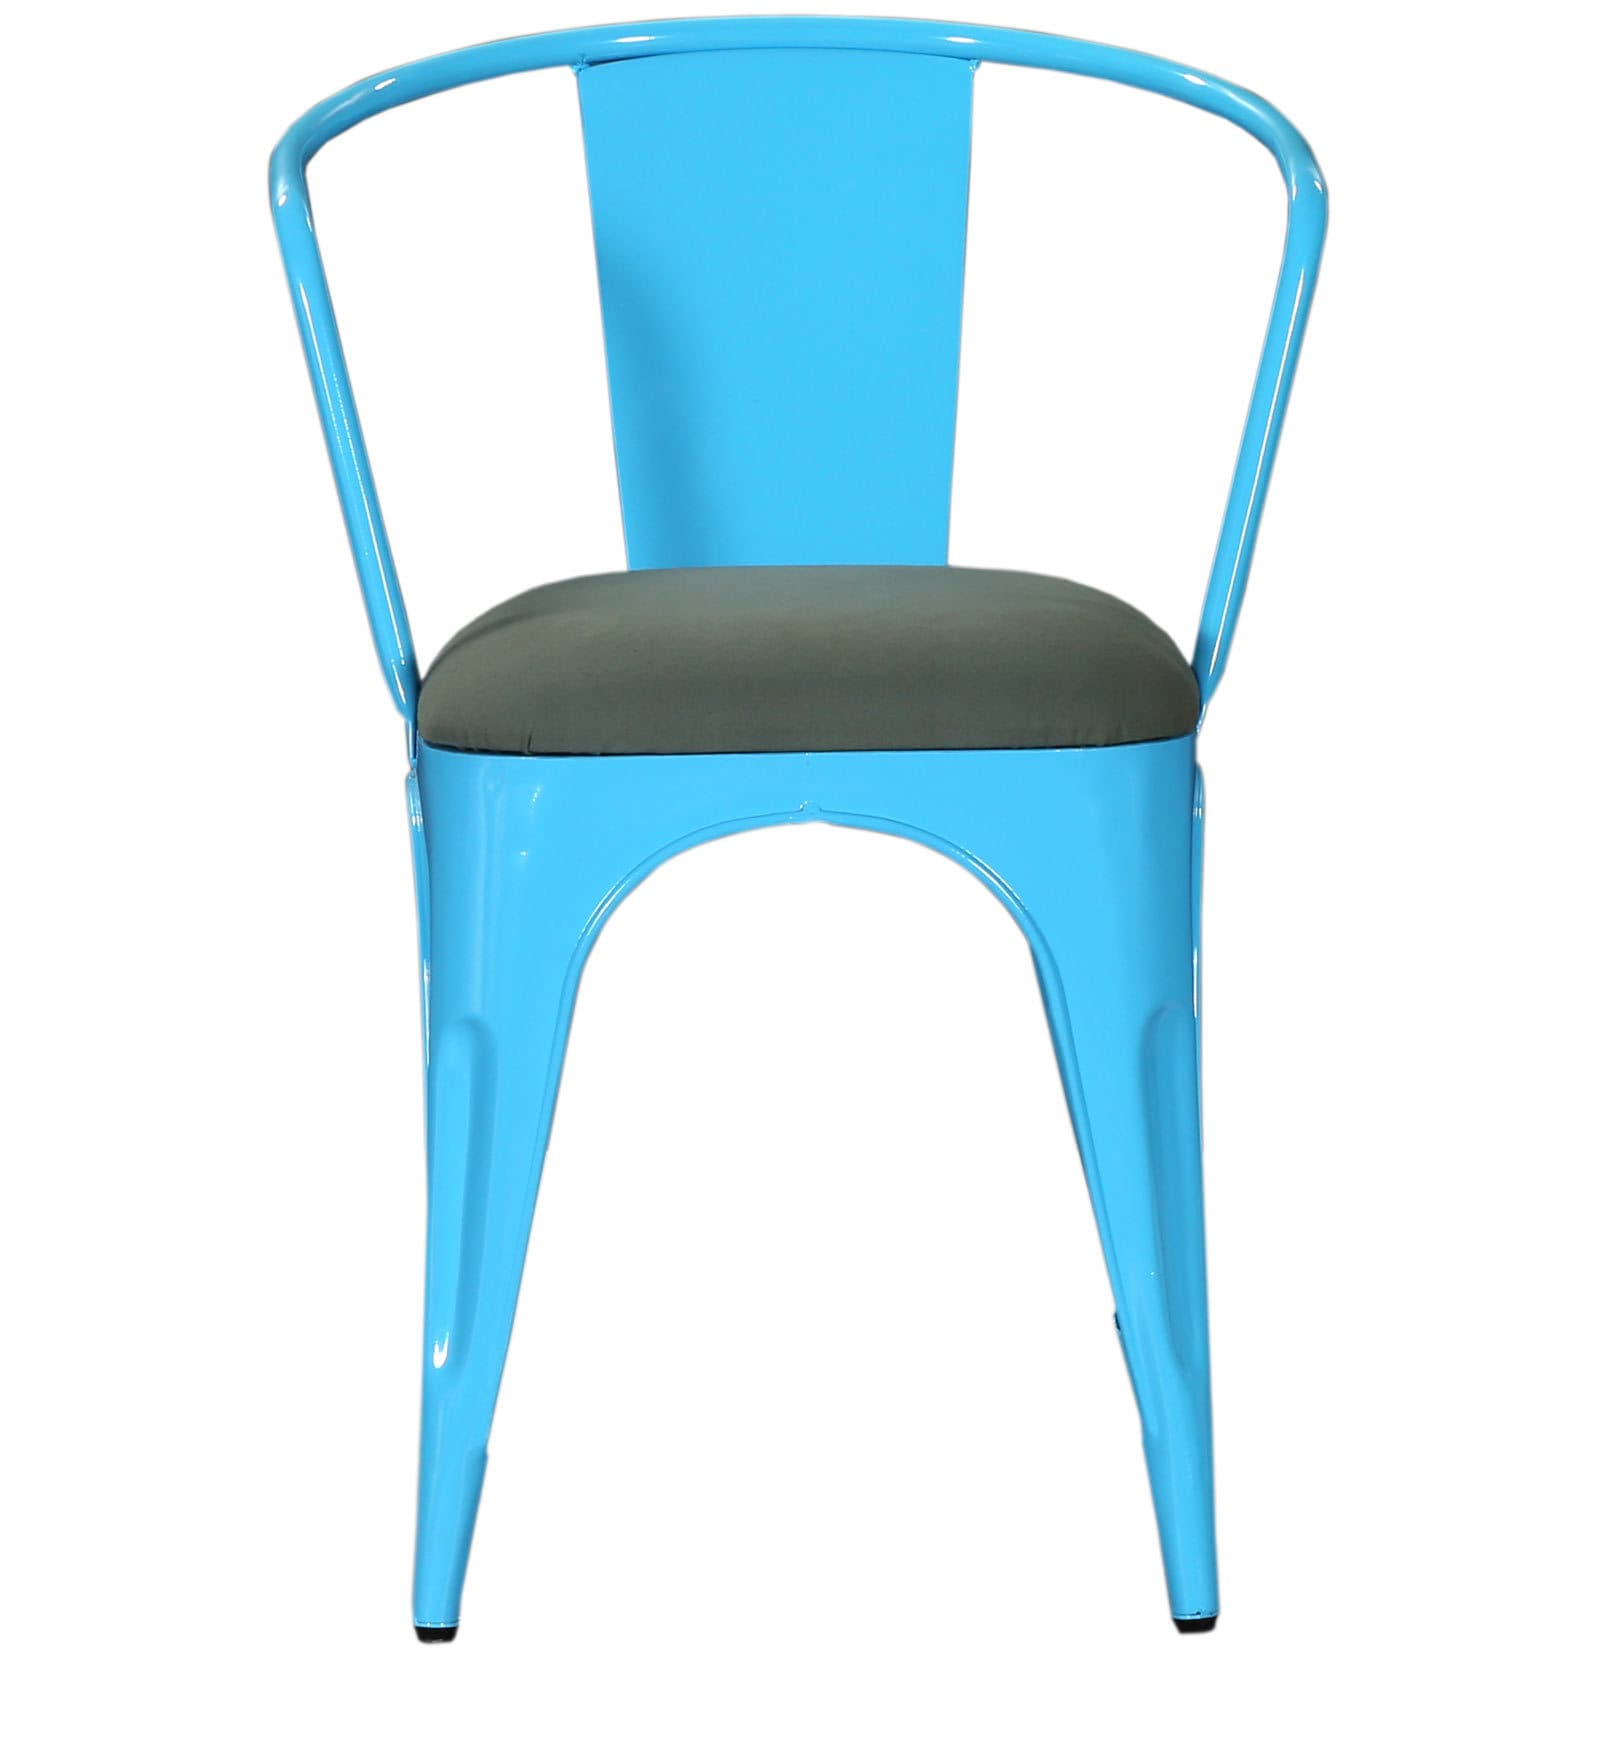Danlou Metal Chair with Cushion in Blue Colour by Bohemiana: (176, 8, 1336, 1663)
